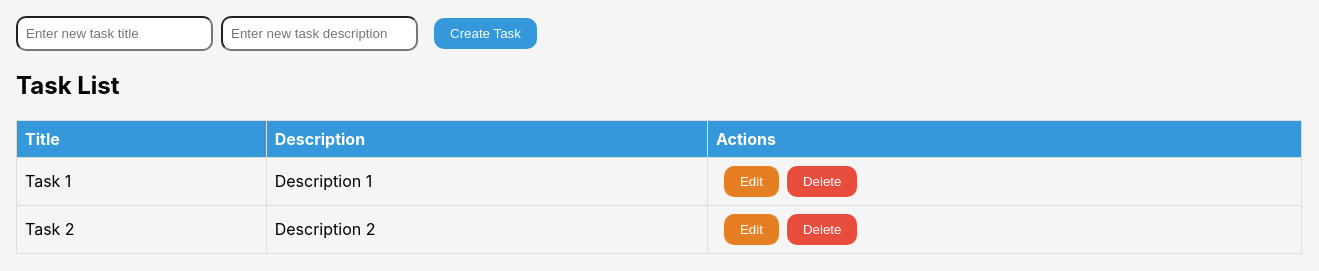
it: TaskList Component › deletes an existing task
Note: Wait for tasks to be loaded
Click the button "Delete" in the row of "Task 1" at (822, 181), box [787,166,857,197]
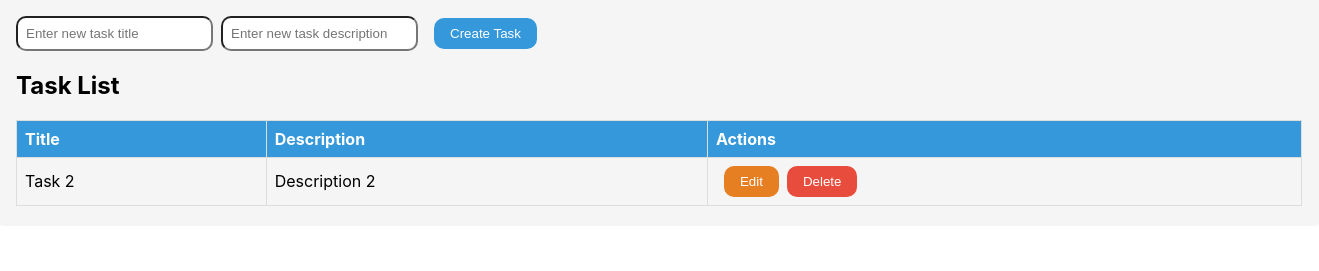
Expected: the text "Task 1" is gone
Expected: the text "Description 1" is gone
